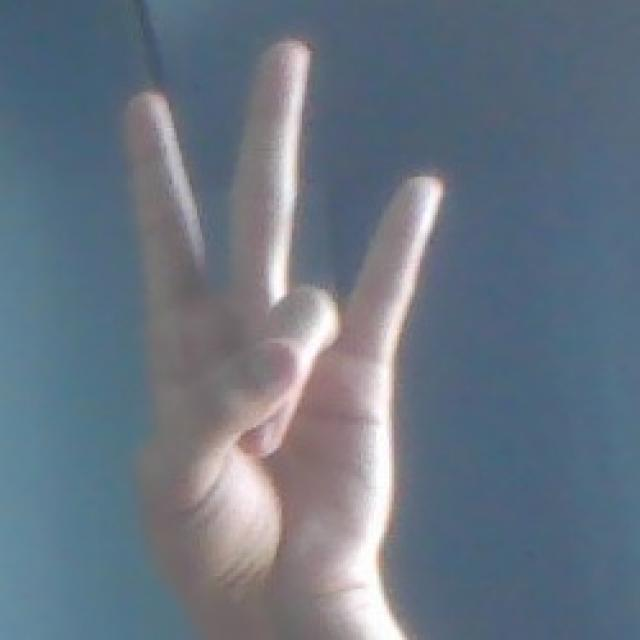Numeric-7: (130, 22, 450, 610)
